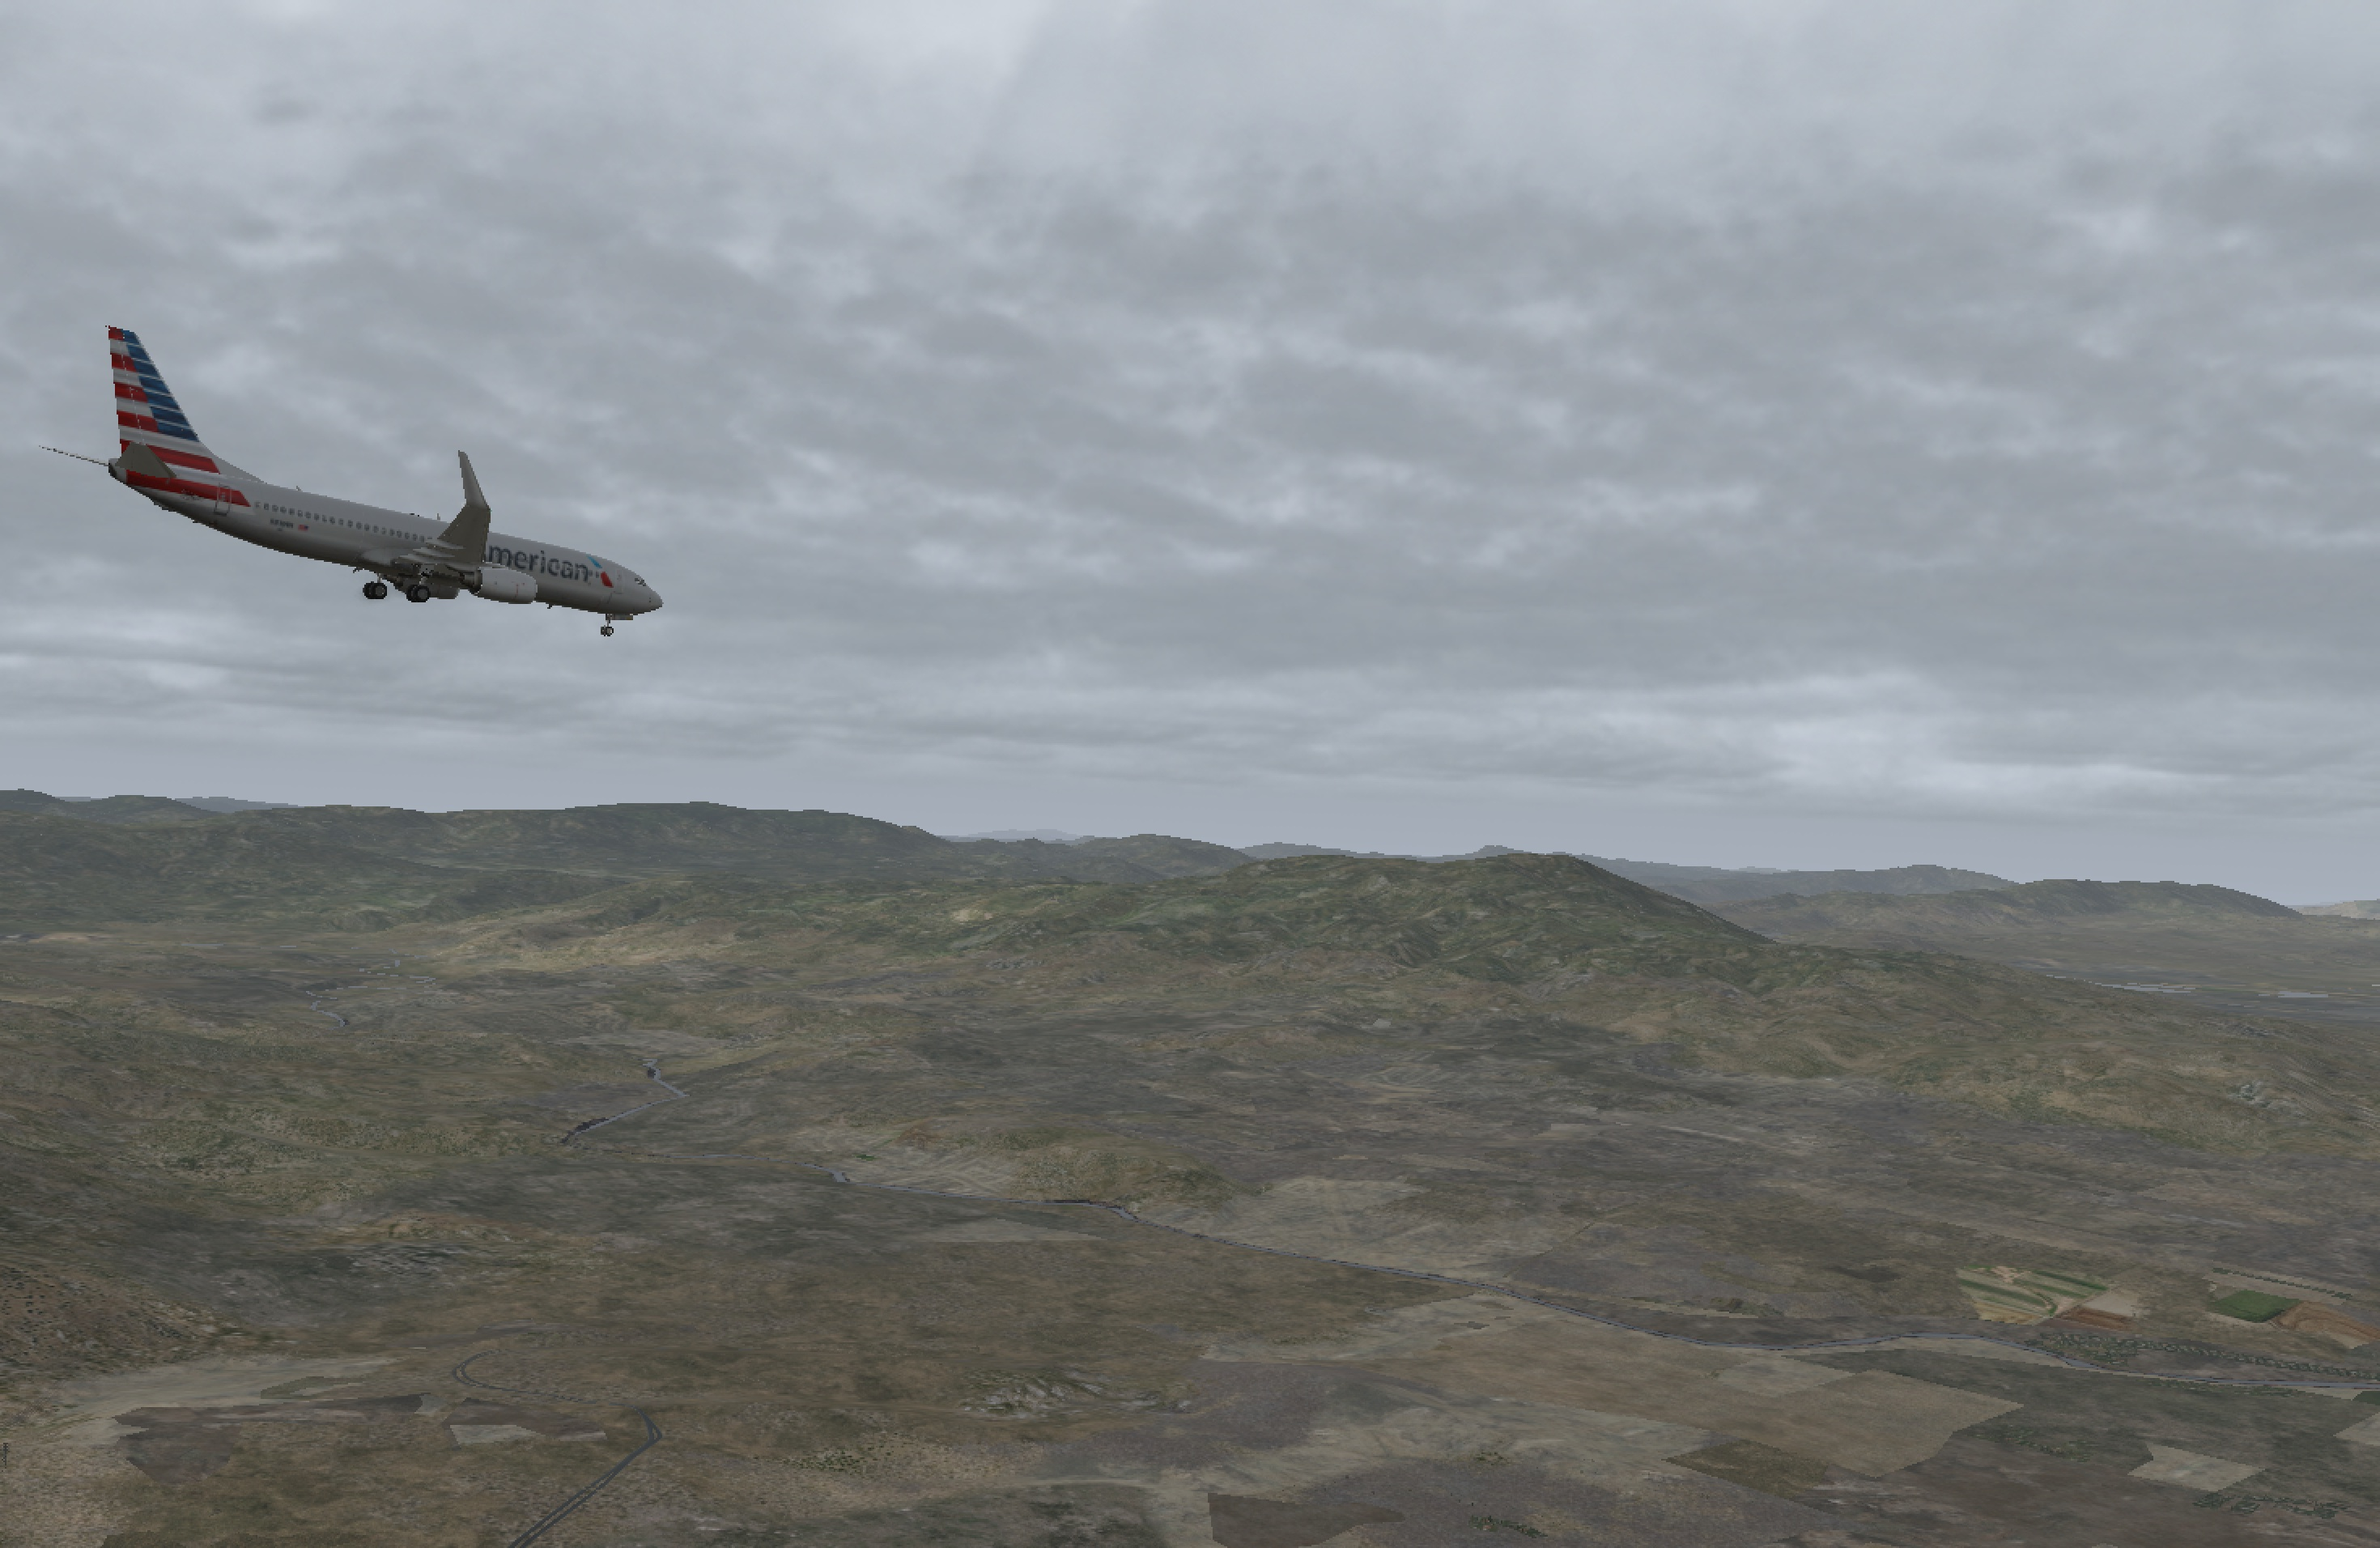aircraft: (142, 453, 704, 664)
